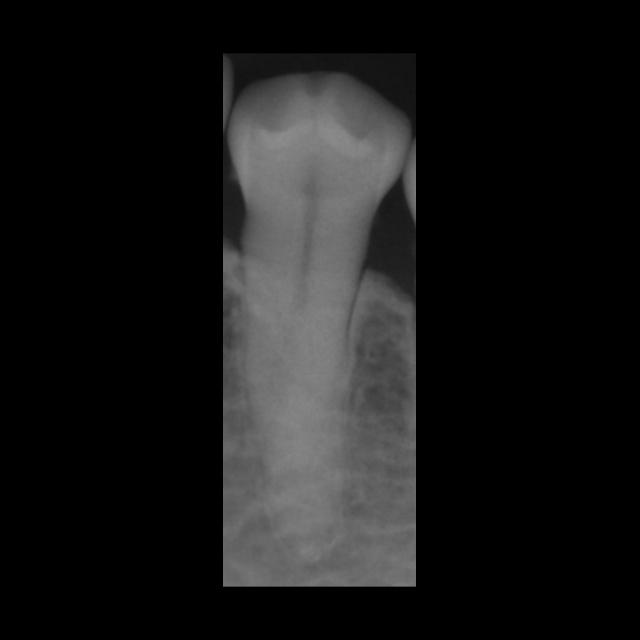tooth: (228, 72, 413, 573)
